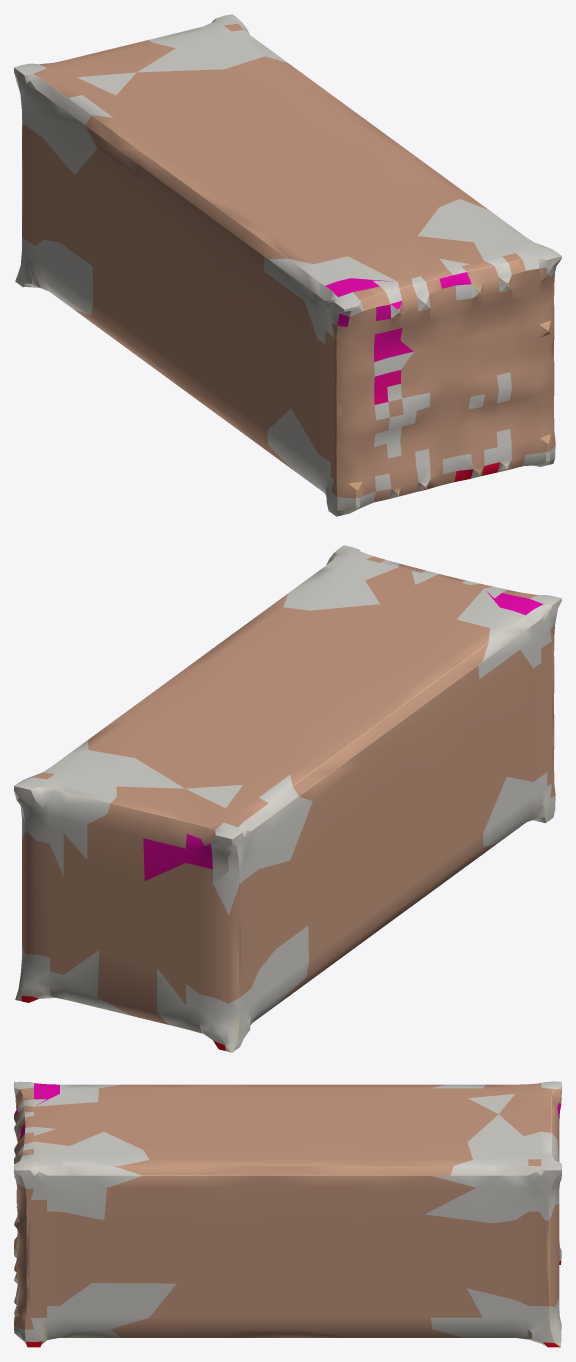
Rendered from cs_container_40.glb.
3 renders of one model, top to bottom at view 1: azimuth 30°, elevation 25°; view 2: azimuth 150°, elevation 25°; view 3: azimuth 270°, elevation 25°, orthographic. The views are drawn at different scales.
Parts seen in each view (by area): view 1: cs_container_40; view 2: cs_container_40; view 3: cs_container_40.
Part boxes in pixels (x1,y1,x2,y2): cs_container_40: (14, 14, 561, 516); cs_container_40: (14, 545, 561, 1052); cs_container_40: (14, 1081, 561, 1347).
Bounding box in the file's own units: 2.73 × 2.59 × 7.13.
